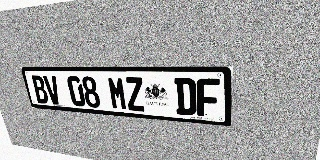0: (66, 76, 86, 107)
8: (80, 76, 101, 108)
B: (30, 75, 50, 104)
D: (174, 78, 196, 116)
F: (196, 78, 220, 118)
M: (107, 77, 128, 110)
V: (43, 76, 62, 105)
Z: (124, 77, 146, 112)
